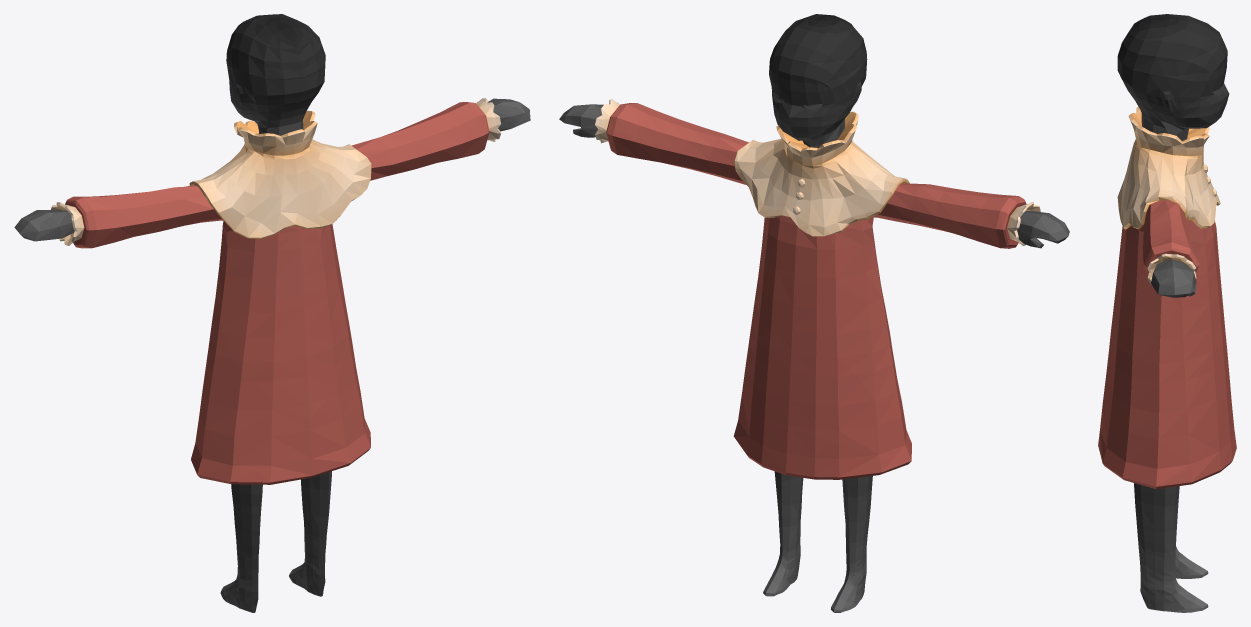
File: CharSkyKid_Body_AP24Bell.glb
3 views of the same model, side by side, from view 1: azimuth 30°, elevation 25°; view 2: azimuth 150°, elevation 25°; view 3: azimuth 270°, elevation 25° (orthographic).
Visible parts, largest first — view 1: CharSkyKid_Body_AP24Bell; view 2: CharSkyKid_Body_AP24Bell; view 3: CharSkyKid_Body_AP24Bell.
Part boxes in pixels (x1,y1,x2,y2): CharSkyKid_Body_AP24Bell: (14, 14, 530, 612); CharSkyKid_Body_AP24Bell: (559, 14, 1069, 612); CharSkyKid_Body_AP24Bell: (1098, 14, 1236, 612).
Size of the model in its own units: 13.83 by 14.94 by 3.28.
Materials: 1 (1 with a texture image).
